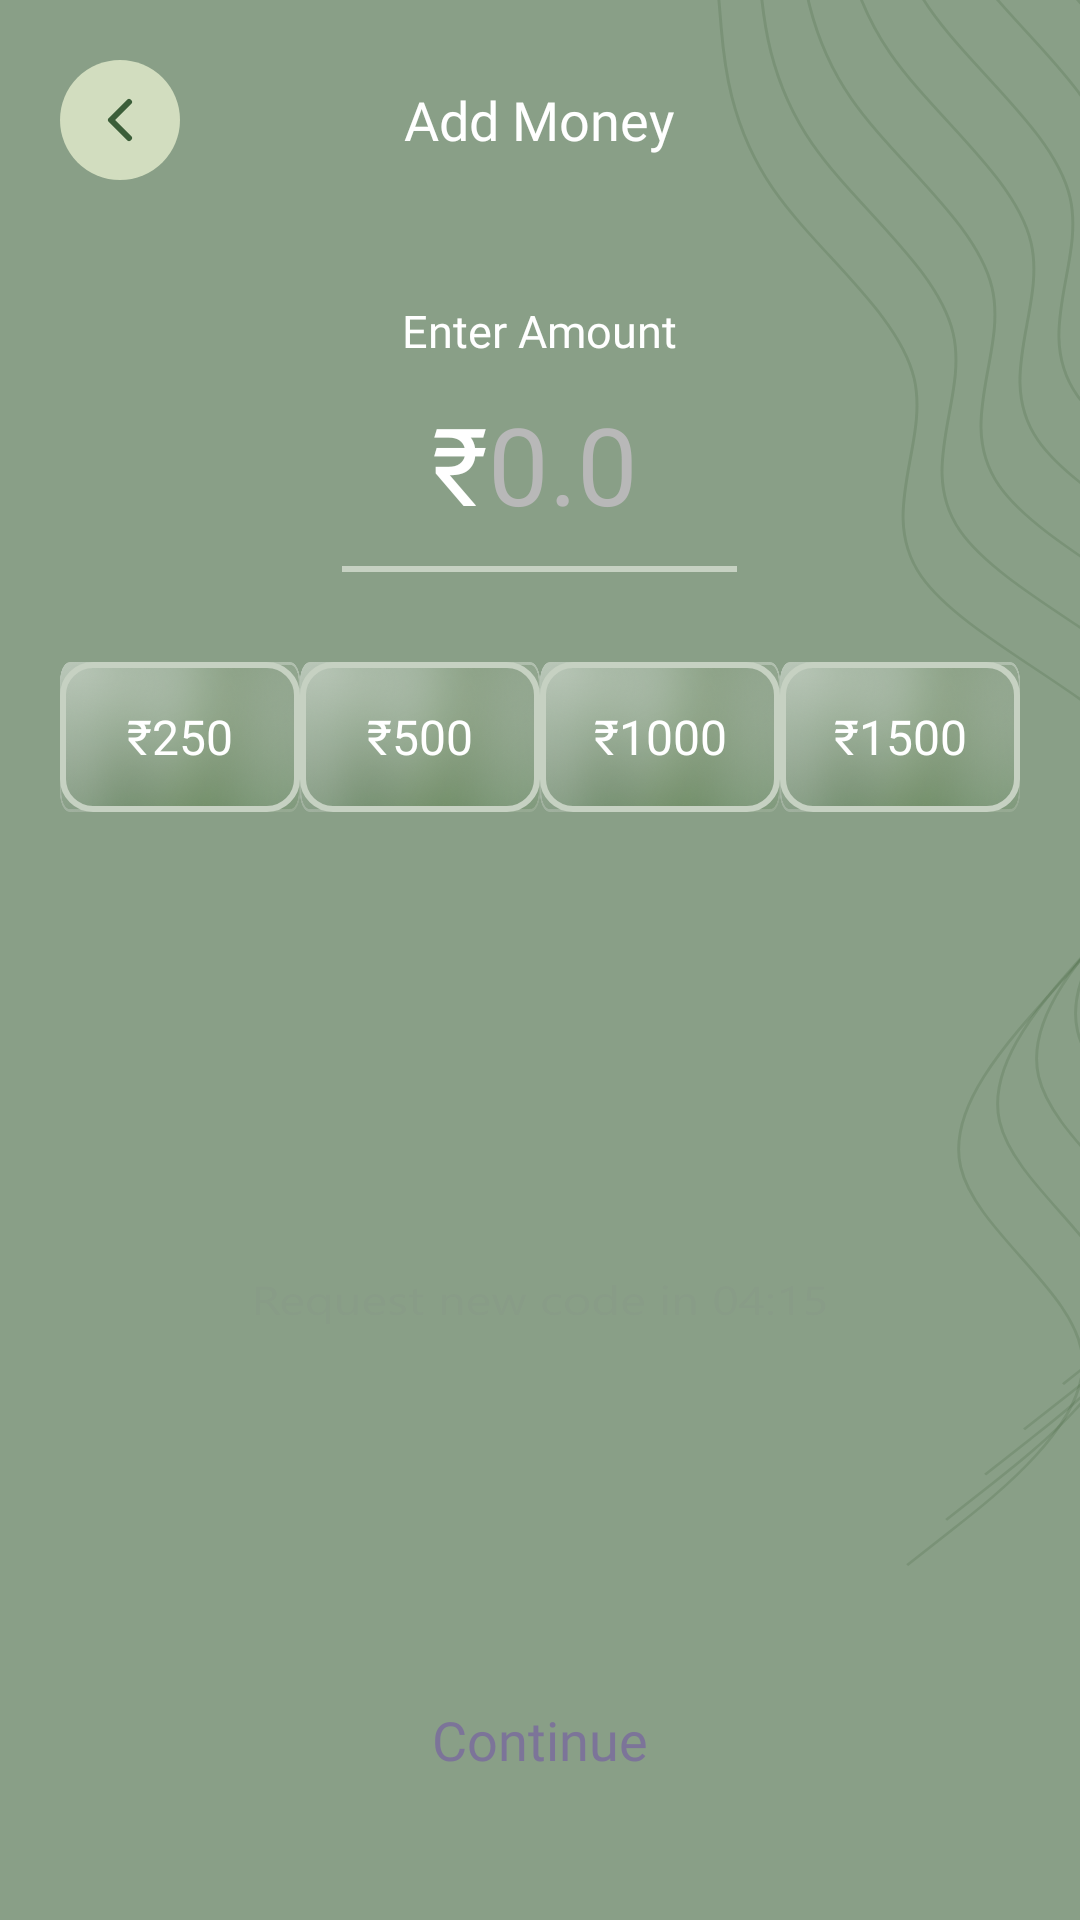

Icon click points for this 1080w x 1920h phone screenshot, format (x=x, y=y):
back arrow: (x=120, y=120)
